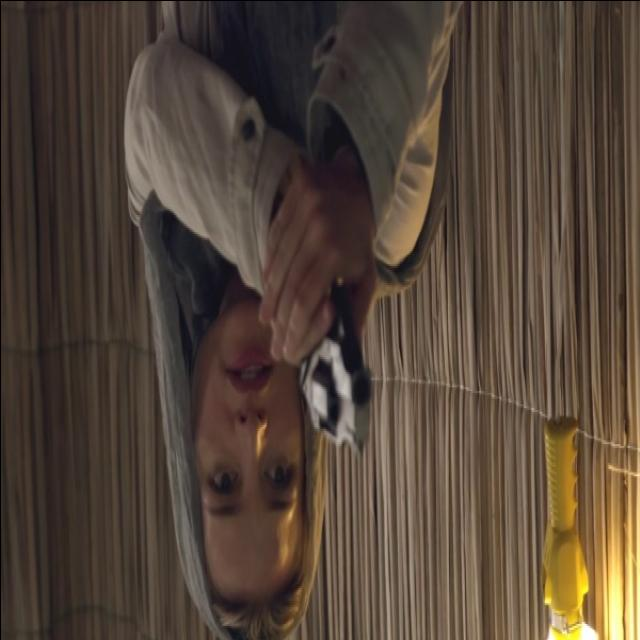weapons: (274, 232, 382, 470)
